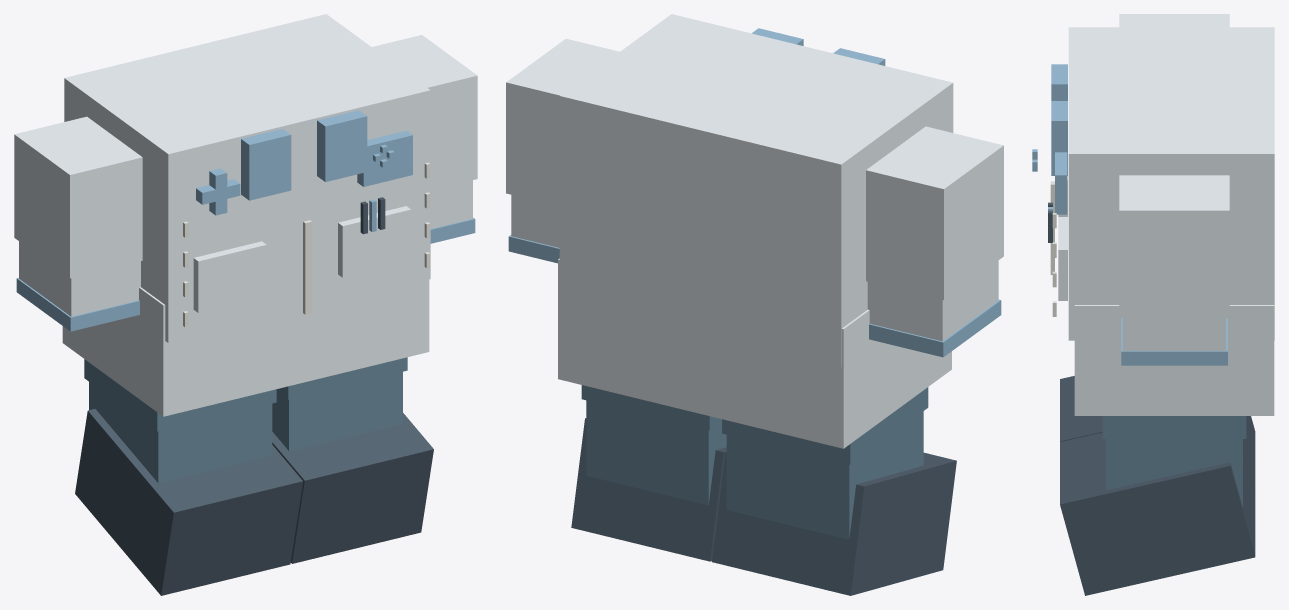
The model's file is pharmacy-sky.glb.
The picture shows the model from 3 angles, left to right: view 1: azimuth 30°, elevation 25°; view 2: azimuth 150°, elevation 25°; view 3: azimuth 270°, elevation 25°; orthographic projection. The views are drawn at different scales.
Parts seen in each view (by area): view 1: jacket, coat-tails, shoe-Right, upper-sleeve-Right, shoe-Left, lower-trouser-Right, upper-sleeve-Left, lower-trouser-Left, lower-sleeve-Right, pocket--1, pocket-1, lapel-1 (+10 smaller); view 2: jacket, coat-tails, upper-sleeve-Right, shoe-Right, lower-trouser-Right, lower-trouser-Left, upper-sleeve-Left, shoe-Left, lower-sleeve-Right, trouser-Right, cuff-Right, lower-sleeve-Left (+2 smaller); view 3: jacket, shoe-Left, coat-tails, upper-sleeve-Left, lower-trouser-Left, lower-sleeve-Left, trouser-Left, shoe-Right, cuff-Left, upper-sleeve-Right, lapel-1, pocket-1 (+2 smaller).
Boxes of the visible parts, x1=… form: jacket: x1=64, y1=14, x2=430, y2=342; coat-tails: x1=62, y1=279, x2=429, y2=416; shoe-Right: x1=75, y1=409, x2=302, y2=595; upper-sleeve-Right: x1=14, y1=116, x2=142, y2=278; shoe-Left: x1=272, y1=413, x2=433, y2=563; lower-trouser-Right: x1=89, y1=382, x2=272, y2=482; upper-sleeve-Left: x1=372, y1=35, x2=477, y2=190; lower-trouser-Left: x1=272, y1=372, x2=402, y2=451; lower-sleeve-Right: x1=19, y1=241, x2=140, y2=316; pocket--1: x1=193, y1=241, x2=266, y2=312; pocket-1: x1=338, y1=206, x2=411, y2=277; lapel-1: x1=317, y1=110, x2=367, y2=181; jacket: x1=559, y1=14, x2=953, y2=367; coat-tails: x1=558, y1=258, x2=951, y2=448; upper-sleeve-Right: x1=866, y1=126, x2=1003, y2=300; shoe-Right: x1=712, y1=452, x2=956, y2=595; lower-trouser-Right: x1=726, y1=411, x2=923, y2=539; lower-trouser-Left: x1=586, y1=400, x2=726, y2=505; upper-sleeve-Left: x1=506, y1=38, x2=619, y2=206; shoe-Left: x1=571, y1=418, x2=726, y2=561; lower-sleeve-Right: x1=867, y1=260, x2=998, y2=341; trouser-Right: x1=722, y1=387, x2=928, y2=464; cuff-Right: x1=869, y1=299, x2=1001, y2=357; lower-sleeve-Left: x1=511, y1=195, x2=559, y2=247; jacket: x1=1068, y1=27, x2=1274, y2=340; shoe-Left: x1=1060, y1=432, x2=1255, y2=595; coat-tails: x1=1074, y1=305, x2=1274, y2=415; upper-sleeve-Left: x1=1119, y1=175, x2=1229, y2=312; lower-trouser-Left: x1=1106, y1=439, x2=1242, y2=507; lower-sleeve-Left: x1=1123, y1=312, x2=1225, y2=350; trouser-Left: x1=1102, y1=416, x2=1246, y2=438; shoe-Right: x1=1060, y1=376, x2=1255, y2=493; cuff-Left: x1=1121, y1=318, x2=1227, y2=365; upper-sleeve-Right: x1=1119, y1=14, x2=1229, y2=27; lapel-1: x1=1051, y1=101, x2=1067, y2=175; pocket-1: x1=1058, y1=217, x2=1067, y2=300.
Size of the model in its own units: 1.07 by 1.13 by 0.559.
